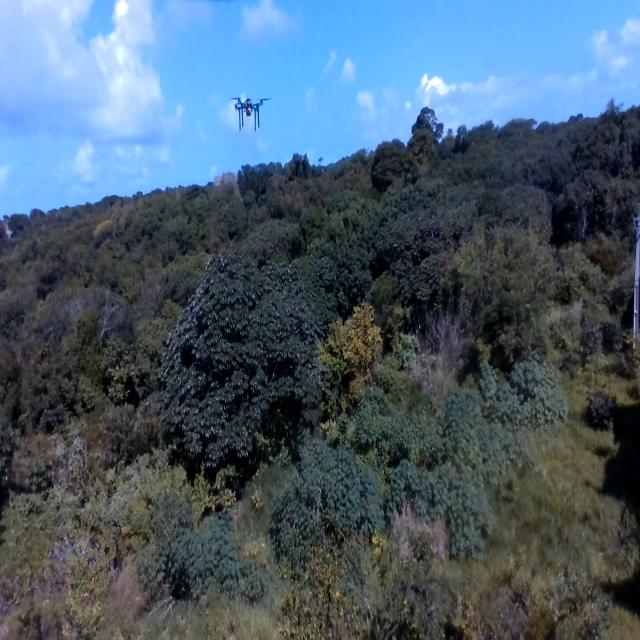-uav-: (225, 88, 275, 138)
